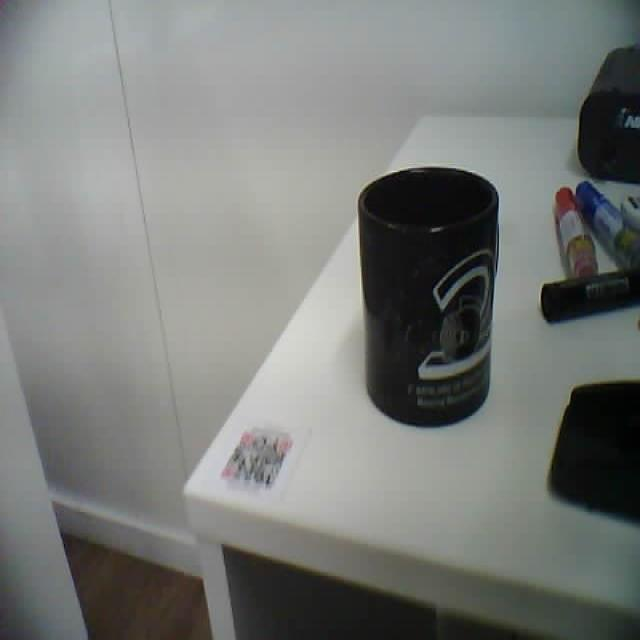caneca: (359, 167, 498, 425)
